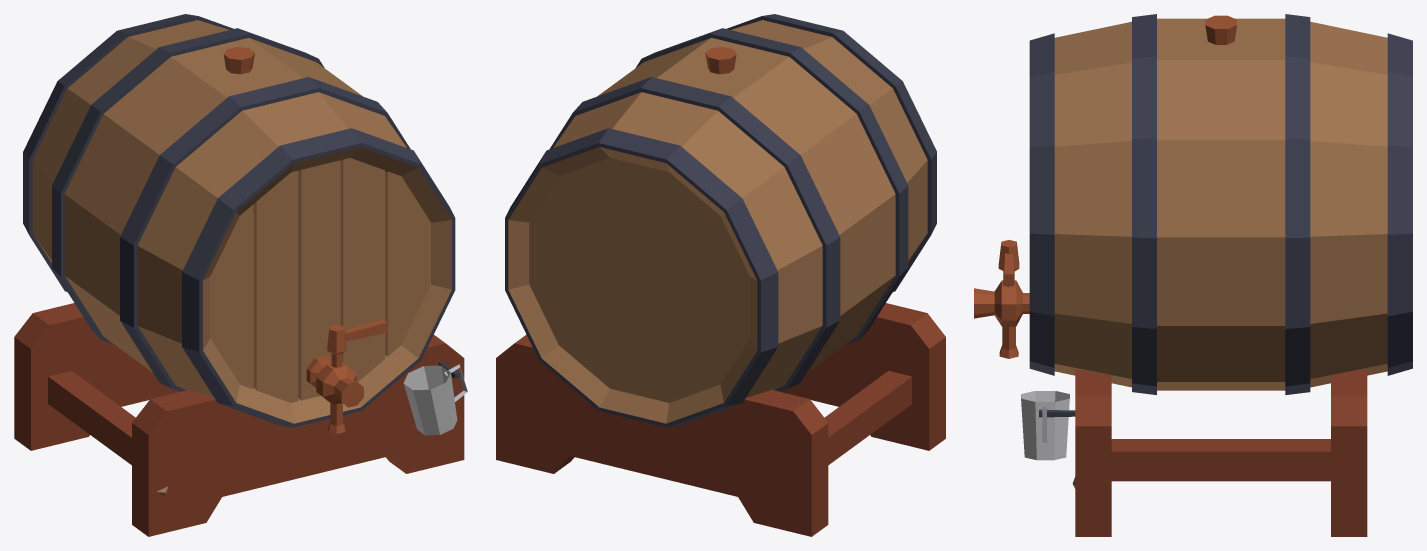
Rendered from chicha-barrel-77037f.glb.
3 views of the same model, side by side, from view 1: azimuth 30°, elevation 25°; view 2: azimuth 150°, elevation 25°; view 3: azimuth 270°, elevation 25° (orthographic). The views are drawn at different scales.
Visible parts, largest first — view 1: barrel, tin-cup-mesh, tap-key-mesh; view 2: barrel; view 3: barrel, tin-cup-mesh, tap-key-mesh.
Part boxes in pixels (left/top/right/bottom): barrel: left=14, top=14, right=464, bottom=536; tin-cup-mesh: left=403, top=364, right=467, bottom=435; tap-key-mesh: left=327, top=319, right=387, bottom=367; barrel: left=496, top=14, right=945, bottom=536; barrel: left=974, top=14, right=1412, bottom=536; tin-cup-mesh: left=1021, top=391, right=1069, bottom=460; tap-key-mesh: left=998, top=240, right=1019, bottom=286.
Size of the model in its own units: 0.6 by 0.7191 by 0.664.
